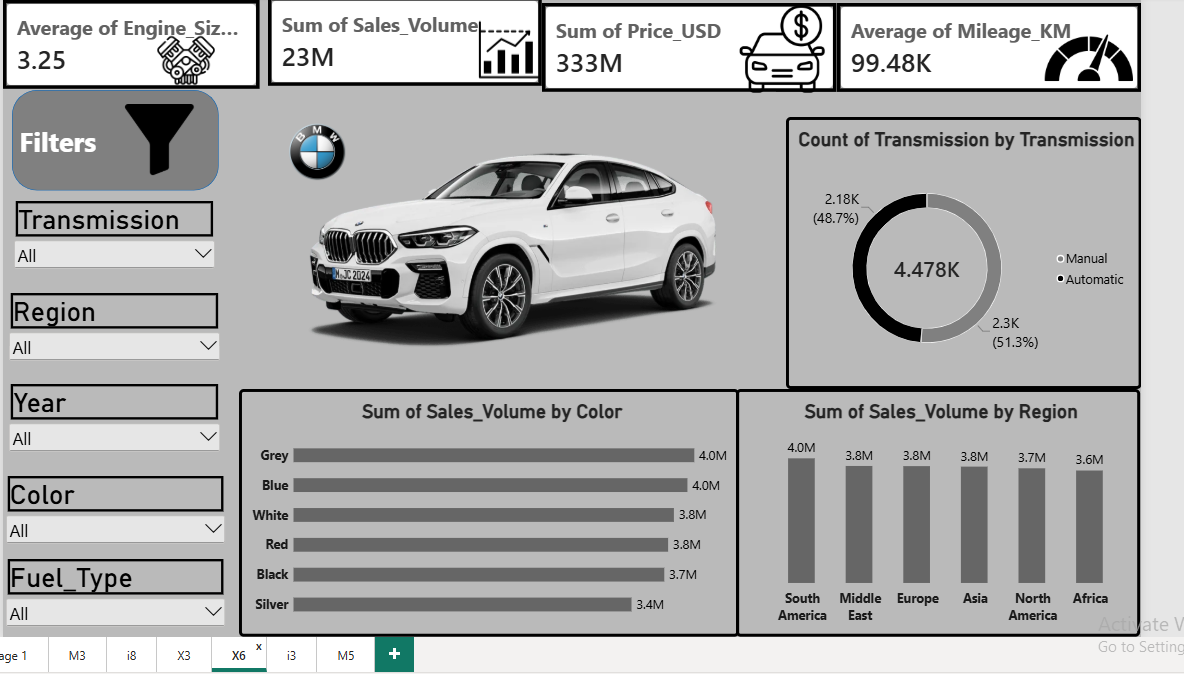

This screenshot's page, from the dashboard's own definition file:
{"tool":"powerbi","page":{"name":"X6","canvas":[1920,1080],"ordinal":4},"visuals":[{"type":"image","box":[362.4,150.4,940.7,553.3],"z":0},{"type":"slicer","fields":{"Values":["BMW_Car_Sales_Classification (1).Year"]},"box":[5.8,653.5,366.3,129.2],"z":1000},{"type":"slicer","fields":{"Values":["BMW_Car_Sales_Classification (1).Region"]},"box":[5.8,499.3,366.3,129.2],"z":2000},{"type":"slicer","fields":{"Values":["BMW_Car_Sales_Classification (1).Transmission"]},"box":[13.5,345.1,348.9,129.2],"z":3000},{"type":"slicer","fields":{"Values":["BMW_Car_Sales_Classification (1).Color"]},"box":[0,807.7,379.8,115.7],"z":4000},{"type":"slicer","fields":{"Values":["BMW_Car_Sales_Classification (1).Fuel_Type"]},"box":[0,948.4,379.8,131.1],"z":5000},{"type":"shape","box":[15.4,156.1,348.9,169.6],"z":6000},{"type":"image","box":[165.8,181.2,196.6,119.5],"z":7000},{"type":"image","box":[399,177.3,264.1,167.7],"z":8000},{"type":"barChart","fields":{"Category":["BMW_Car_Sales_Classification (1).Color"],"Y":["Sum(BMW_Car_Sales_Classification (1).Sales_Volume)"]},"box":[399,661.2,844.3,418.3],"z":9000},{"type":"columnChart","fields":{"Category":["BMW_Car_Sales_Classification (1).Region"],"Y":["Sum(BMW_Car_Sales_Classification (1).Sales_Volume)"]},"box":[1237.6,661.2,682.4,418.3],"z":10000},{"type":"donutChart","fields":{"Category":["BMW_Car_Sales_Classification (1).Transmission"],"Y":["CountNonNull(BMW_Car_Sales_Classification (1).Transmission)"]},"box":[1320.5,202.4,599.5,458.8],"z":11000},{"type":"cardVisual","fields":{"Data":["Sum(BMW_Car_Sales_Classification (1).Sales_Volume)"]},"box":[447.2,0,462.7,150.4],"z":12000},{"type":"cardVisual","fields":{"Data":["Sum(BMW_Car_Sales_Classification (1).Price_USD)"]},"box":[909.9,9.6,497.3,150.4],"z":13000},{"type":"cardVisual","fields":{"Data":["Avg(BMW_Car_Sales_Classification (1).Mileage_KM)"]},"box":[1407,10,513,150],"z":14000},{"type":"image","box":[1224.1,13.5,183.1,148.4],"z":15000},{"type":"image","box":[801.9,0,108,177.3],"z":17000},{"type":"image","box":[1744.6,28.9,175.4,148.4],"z":18000},{"type":"cardVisual","fields":{"Data":["Avg(BMW_Car_Sales_Classification (1).Engine_Size_L)"]},"box":[0,5.8,433.7,150.4],"z":19000},{"type":"image","box":[165.8,59.8,287.2,96.4],"z":20000}]}

Visuals, with their boxes on the page's 1920x1080 design canvas (x1, y1, x2, y2). These are canvas units, not pixel positions in the 1184x674 screenshot, which may show the page scaled, cropped or inside an application window:
image: crop(362, 150, 1303, 704)
slicer - BMW_Car_Sales_Classification (1).Year: crop(6, 654, 372, 783)
slicer - BMW_Car_Sales_Classification (1).Region: crop(6, 499, 372, 628)
slicer - BMW_Car_Sales_Classification (1).Transmission: crop(14, 345, 362, 474)
slicer - BMW_Car_Sales_Classification (1).Color: crop(0, 808, 380, 923)
slicer - BMW_Car_Sales_Classification (1).Fuel_Type: crop(0, 948, 380, 1080)
shape: crop(15, 156, 364, 326)
image: crop(166, 181, 362, 301)
image: crop(399, 177, 663, 345)
barChart - BMW_Car_Sales_Classification (1).Color x Sum(BMW_Car_Sales_Classification (1).Sales_Volume): crop(399, 661, 1243, 1080)
columnChart - BMW_Car_Sales_Classification (1).Region x Sum(BMW_Car_Sales_Classification (1).Sales_Volume): crop(1238, 661, 1920, 1080)
donutChart - BMW_Car_Sales_Classification (1).Transmission x CountNonNull(BMW_Car_Sales_Classification (1).Transmission): crop(1320, 202, 1920, 661)
cardVisual - Sum(BMW_Car_Sales_Classification (1).Sales_Volume): crop(447, 0, 910, 150)
cardVisual - Sum(BMW_Car_Sales_Classification (1).Price_USD): crop(910, 10, 1407, 160)
cardVisual - Avg(BMW_Car_Sales_Classification (1).Mileage_KM): crop(1407, 10, 1920, 160)
image: crop(1224, 14, 1407, 162)
image: crop(802, 0, 910, 177)
image: crop(1745, 29, 1920, 177)
cardVisual - Avg(BMW_Car_Sales_Classification (1).Engine_Size_L): crop(0, 6, 434, 156)
image: crop(166, 60, 453, 156)
